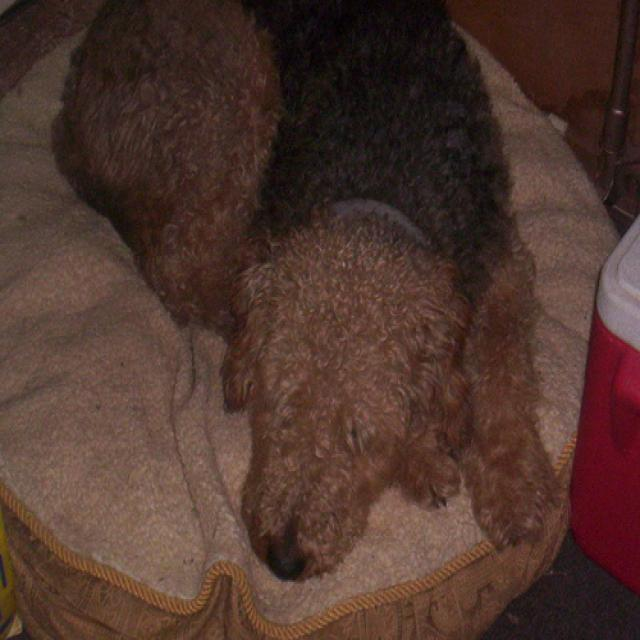Dog: (51, 0, 577, 597)
